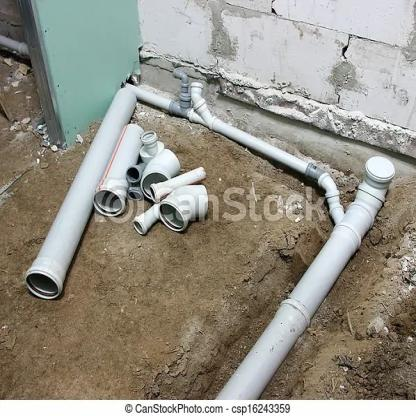PVC: (121, 68, 394, 399), (23, 87, 137, 298), (96, 123, 142, 215), (158, 185, 207, 232), (149, 166, 205, 203), (141, 149, 182, 199), (133, 202, 159, 234), (139, 131, 163, 161), (2, 35, 30, 60), (123, 161, 147, 181), (126, 185, 141, 200)
